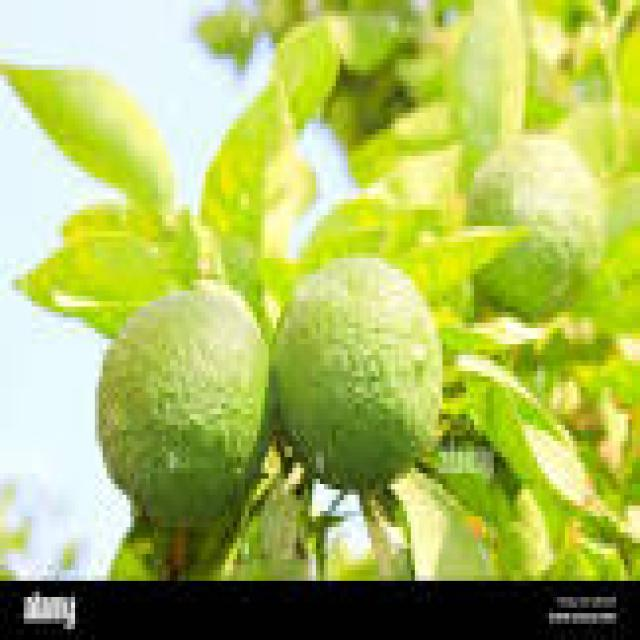orange: (99, 285, 265, 527), (273, 258, 439, 484)
